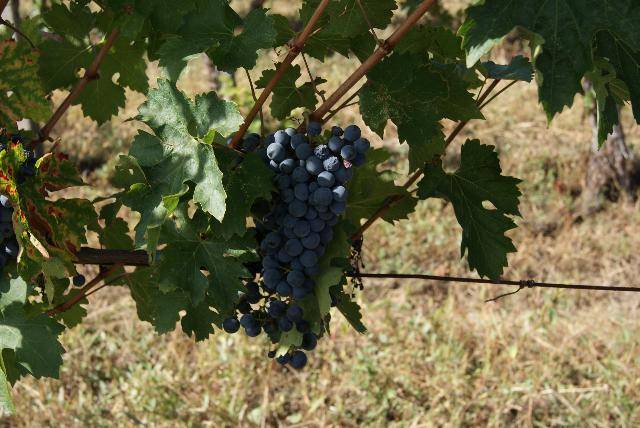grapes: (260, 121, 370, 369)
